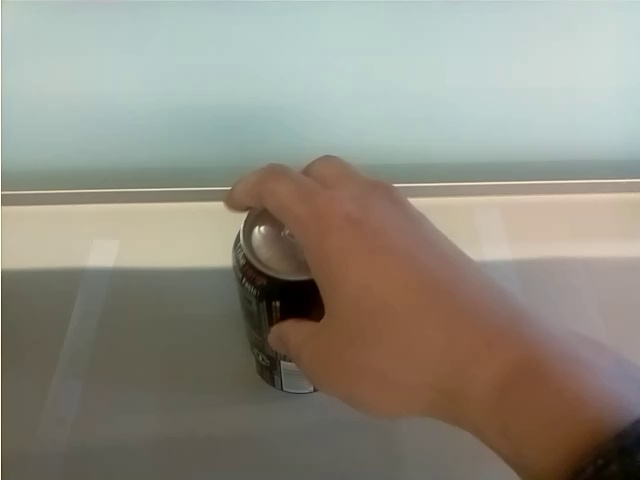cocacola-zero: (230, 203, 334, 398)
hand: (220, 151, 483, 430)
